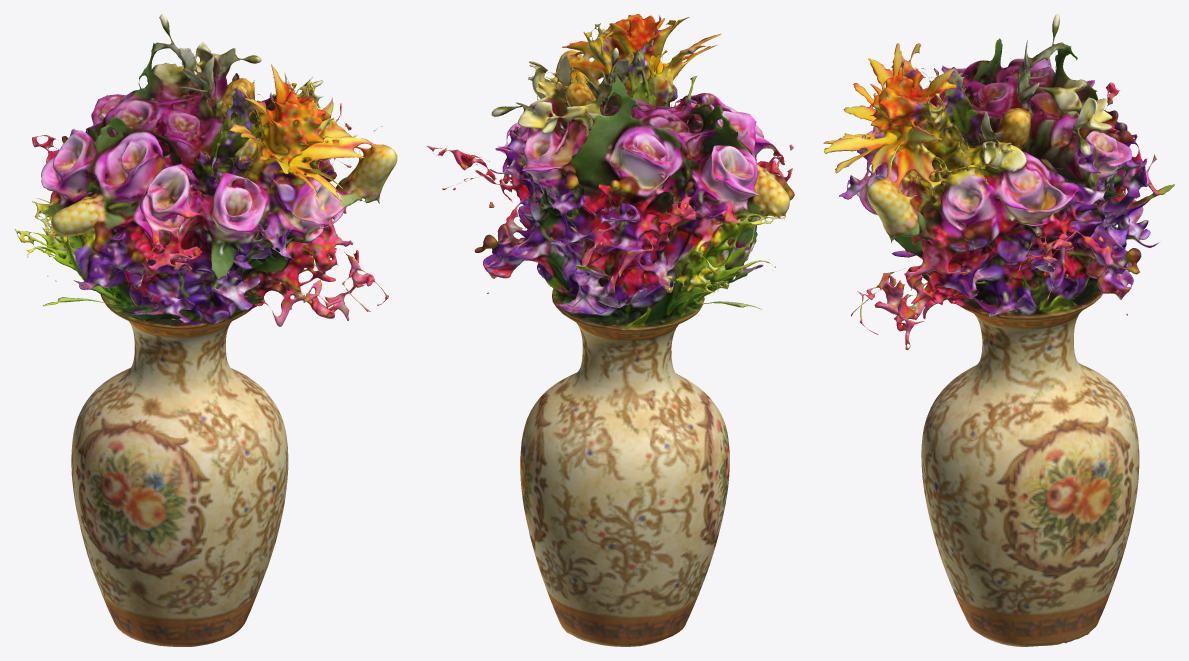
File: bunch_of_flowers_with_vase.glb
3 views of the same model, side by side, from view 1: azimuth 30°, elevation 25°; view 2: azimuth 150°, elevation 25°; view 3: azimuth 270°, elevation 25° (orthographic). The views are drawn at different scales.
Visible parts, largest first — view 1: Object_4, Object_3, Object_2, Object_5; view 2: Object_3, Object_4, Object_2, Object_5; view 3: Object_4, Object_2, Object_3, Object_5.
Boxes of the visible parts, x1,y1,x2,y2 form: Object_4: [14, 14, 388, 646]; Object_3: [15, 16, 394, 438]; Object_2: [17, 47, 397, 625]; Object_5: [27, 93, 396, 646]; Object_3: [442, 17, 790, 547]; Object_4: [430, 14, 794, 625]; Object_2: [427, 15, 793, 509]; Object_5: [483, 37, 793, 646]; Object_4: [825, 14, 1173, 646]; Object_2: [823, 38, 1174, 645]; Object_3: [824, 16, 1165, 620]; Object_5: [868, 51, 1169, 643].
Bounding box in the file's own units: 1.71 × 2.92 × 1.54.
1 material, 1 textured.
